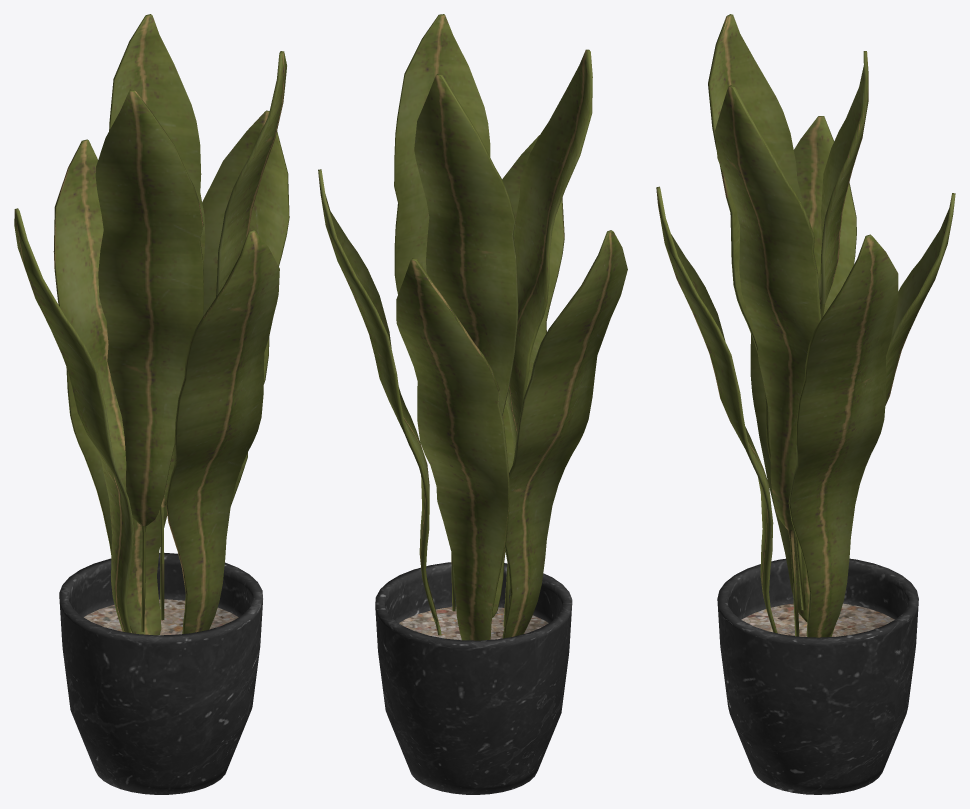
File: pianta.fbx
3 views of the same model, side by side, from view 1: azimuth 30°, elevation 25°; view 2: azimuth 150°, elevation 25°; view 3: azimuth 270°, elevation 25° (orthographic). The views are drawn at different scales.
Visible parts, largest first — view 1: Cylinder; view 2: Cylinder; view 3: Cylinder.
Part boxes in pixels (<box>): Cylinder: <box>14,14,289,794</box>; Cylinder: <box>318,14,627,794</box>; Cylinder: <box>656,14,955,794</box>.
Bounding box in the file's own units: 45.16 × 111 × 41.72.
